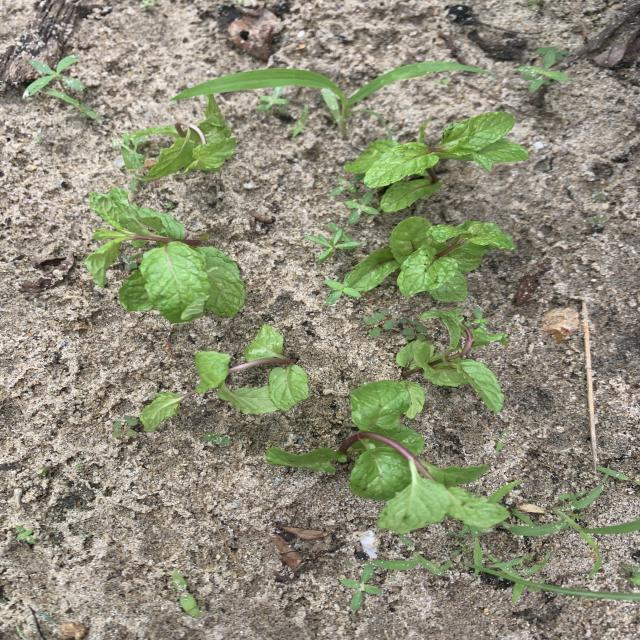crop: (266, 381, 509, 533), (85, 188, 245, 323), (345, 111, 529, 212), (139, 324, 308, 431), (343, 217, 514, 302), (396, 306, 508, 413), (116, 96, 236, 183)
weed: (194, 62, 480, 136), (548, 486, 640, 575), (24, 56, 85, 102), (340, 563, 382, 612), (517, 55, 570, 93), (305, 229, 362, 264), (370, 552, 451, 576), (171, 570, 202, 617), (344, 192, 379, 224), (364, 310, 400, 337), (325, 280, 361, 305), (512, 580, 545, 604), (536, 47, 570, 70), (70, 100, 105, 122), (398, 318, 427, 342), (112, 415, 140, 438), (291, 105, 310, 138), (11, 525, 38, 548), (523, 552, 550, 575), (256, 93, 289, 111), (330, 178, 360, 195), (495, 560, 520, 579), (472, 306, 489, 331), (203, 433, 233, 447), (450, 541, 474, 558), (588, 216, 607, 226), (436, 283, 451, 291)
